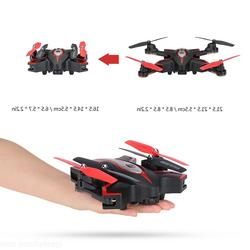drone: (54, 139, 190, 210), (126, 37, 241, 83), (26, 43, 92, 78)
